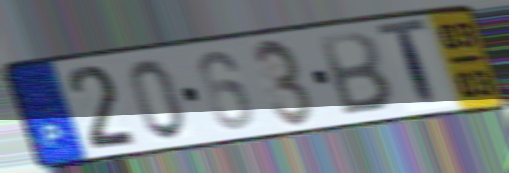0: (125, 55, 191, 144)
2: (67, 63, 141, 153)
3: (253, 34, 316, 131)
6: (196, 48, 256, 133)
B: (315, 29, 396, 118)
T: (373, 15, 442, 112)
